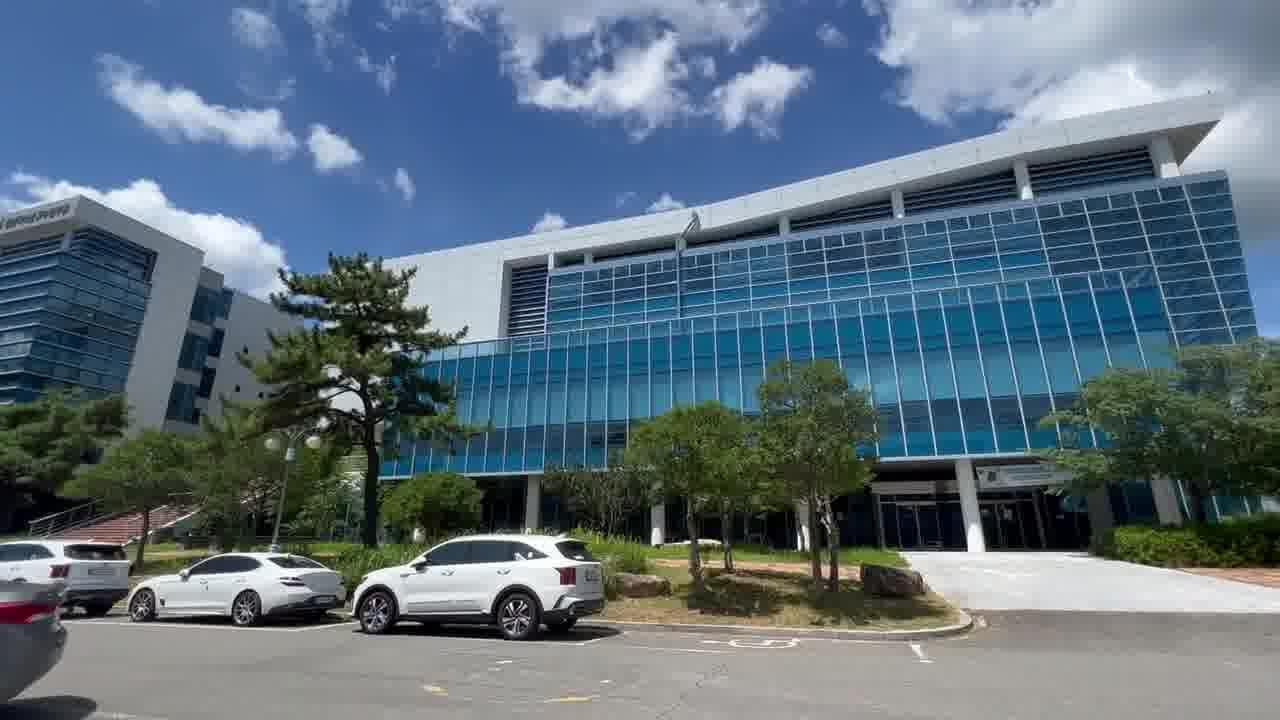building: (471, 70, 1253, 361)
